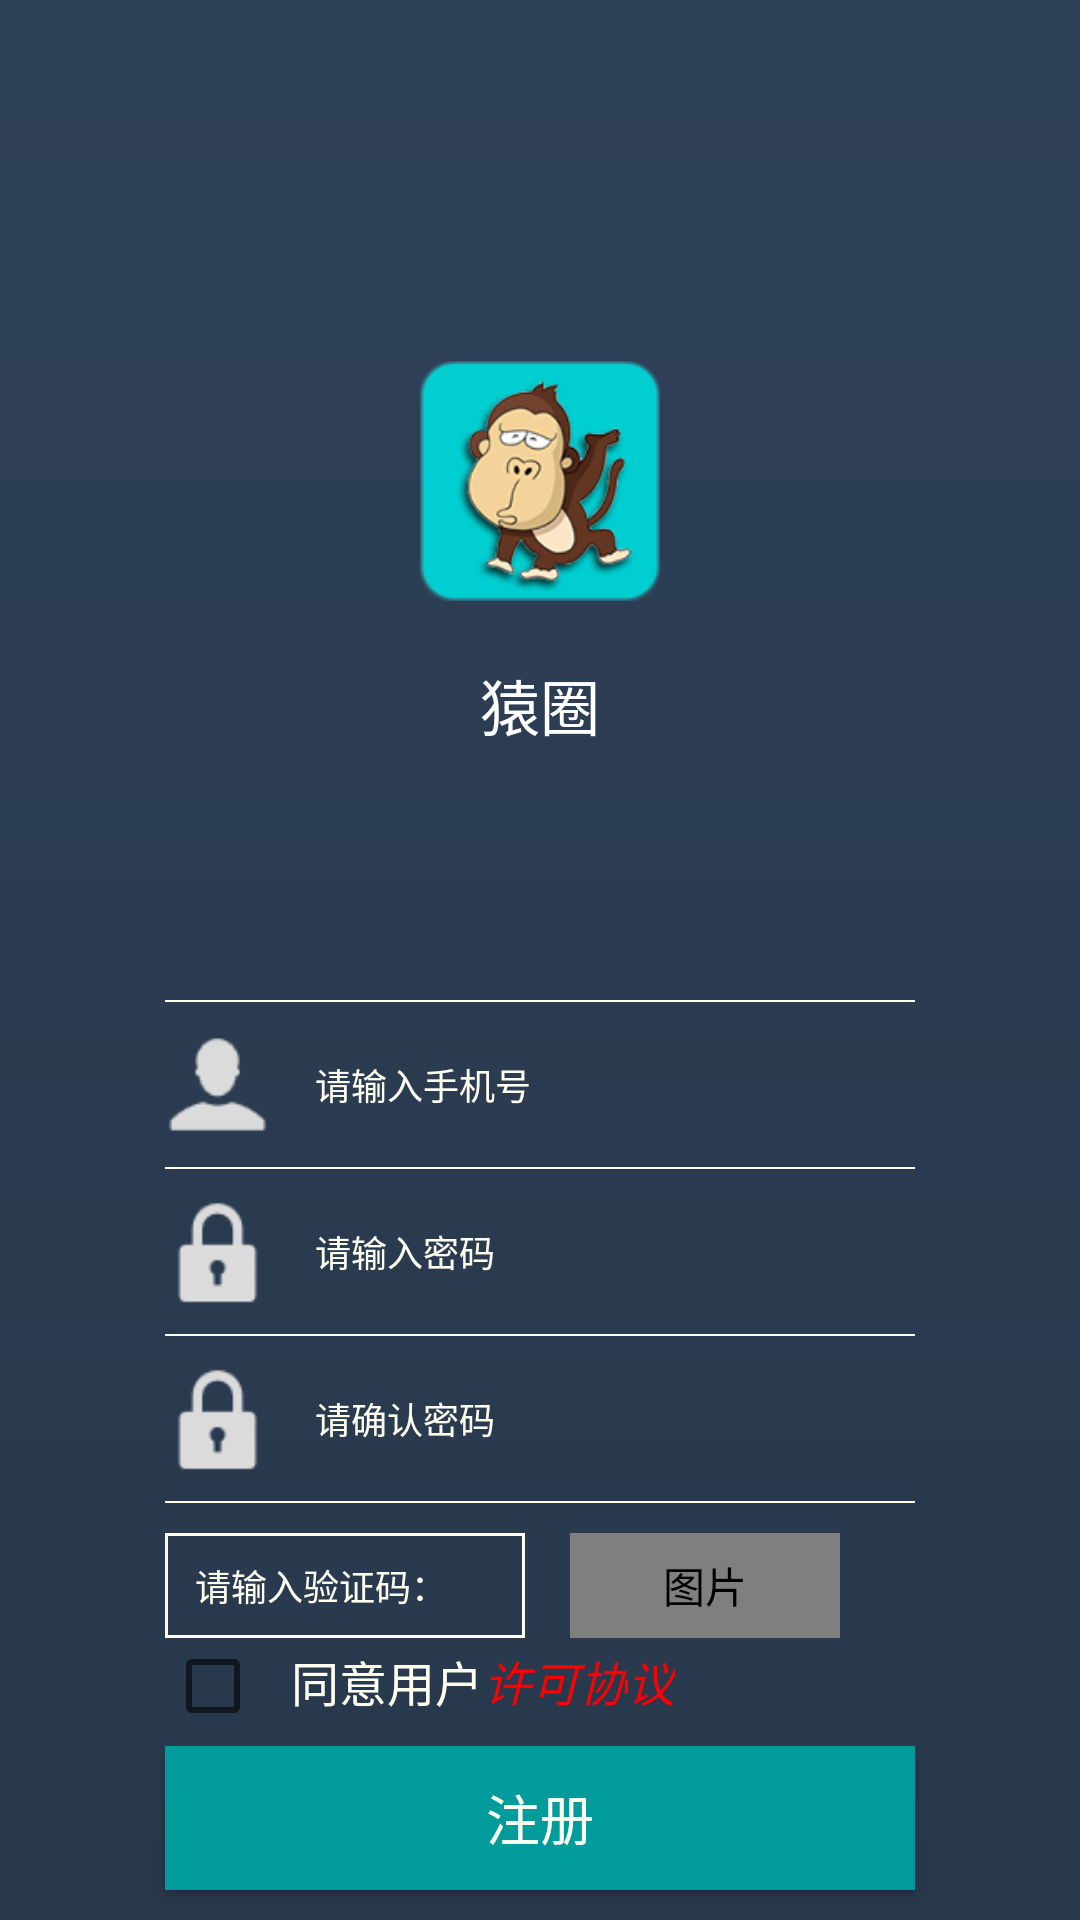

Screen size 1080x1920. Icon name, then its box in pixels as BBox(x1, y1, x2, y2):
app: BBox(420, 361, 660, 601)
lock: BBox(178, 1203, 257, 1303), BBox(178, 1370, 257, 1470)
person: BBox(169, 1038, 266, 1131)
